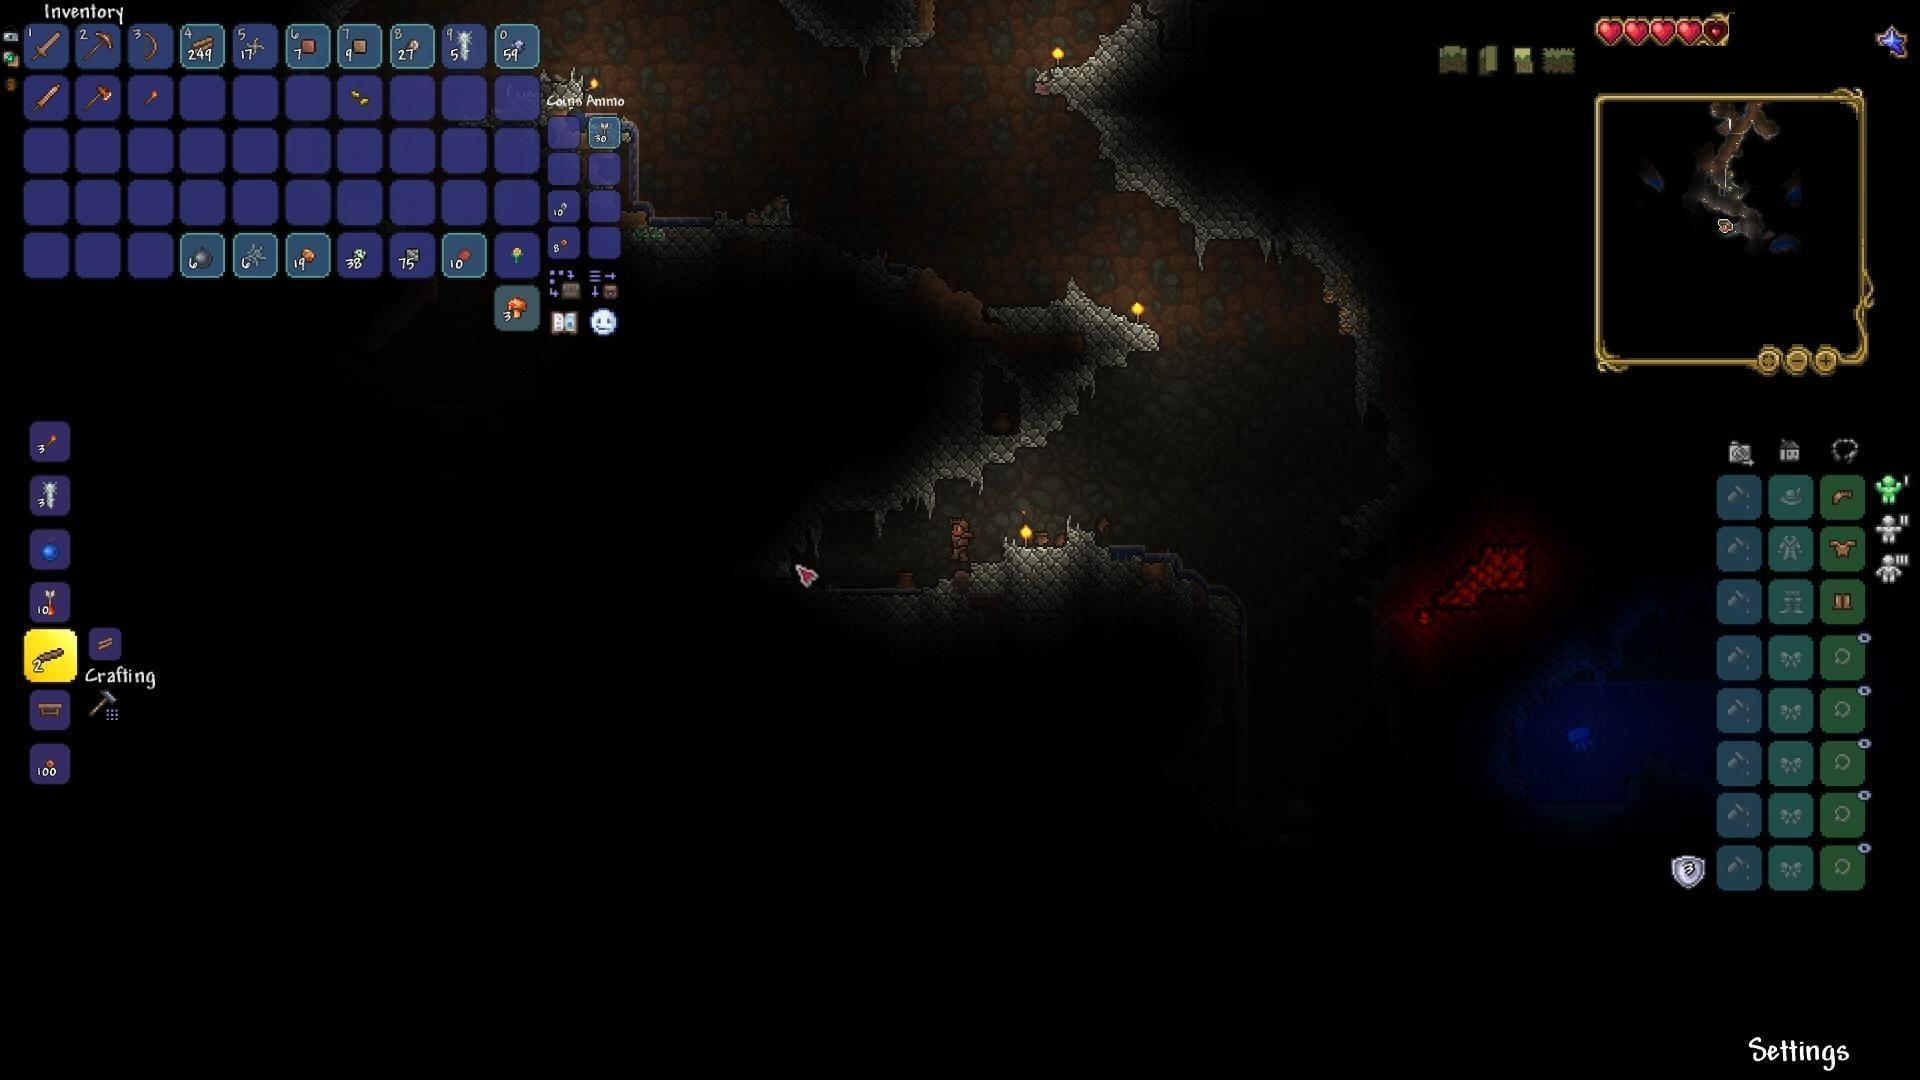heart: (1593, 16, 1626, 46), (1676, 15, 1704, 50), (1650, 16, 1676, 49), (1625, 15, 1651, 44)
stone: (1047, 5, 1164, 227), (990, 281, 1155, 392), (1175, 164, 1335, 276), (803, 443, 1005, 520), (967, 538, 1134, 617), (675, 196, 814, 280), (761, 0, 939, 61), (1316, 281, 1391, 411), (1147, 549, 1240, 637), (840, 593, 945, 649), (1022, 398, 1080, 459)
